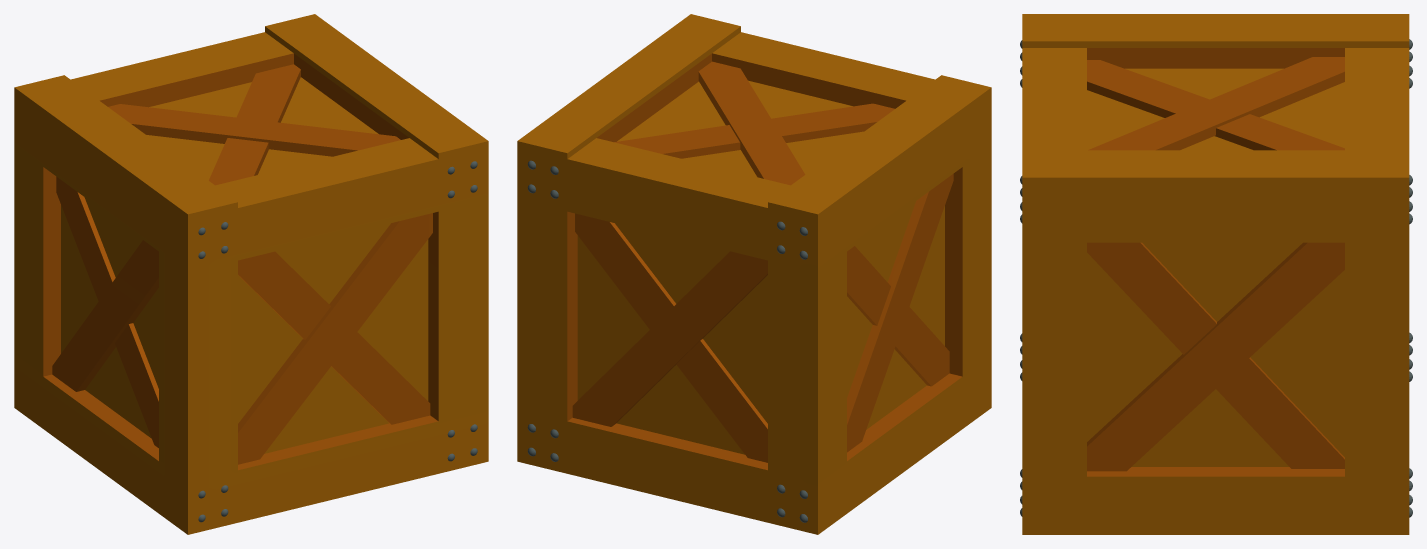
The model's file is CaixaMadeira.glb.
3 views of the same model, side by side, from view 1: azimuth 30°, elevation 25°; view 2: azimuth 150°, elevation 25°; view 3: azimuth 270°, elevation 25° (orthographic). The views are drawn at different scales.
Visible parts, largest first — view 1: CaixaMadeira; view 2: CaixaMadeira; view 3: CaixaMadeira.
Boxes of the visible parts, x1,y1,x2,y2 form: CaixaMadeira: (14,14,488,534); CaixaMadeira: (517,14,991,534); CaixaMadeira: (1020,14,1412,534).
Size of the model in its own units: 2 by 2.04 by 2.03.
Materials: 1 (1 with a texture image).
